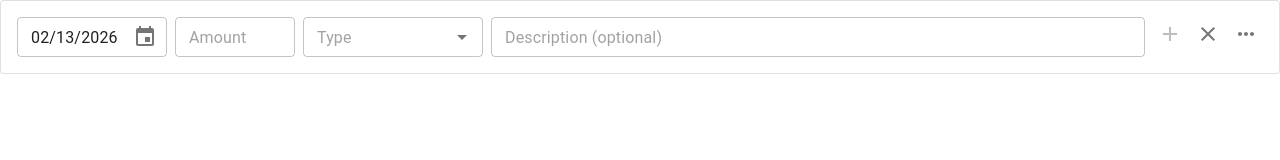
Test case: QuickEntryRow › should handle clicking clear button
# Fill in some fields
Type "50.00" into the number field with placeholder "Amount" at coordinates (235, 37), box [175, 17, 295, 57]
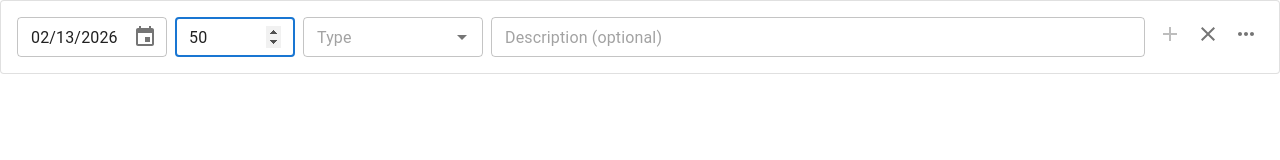
Type "Test" into the field with placeholder "Description (optional)" at coordinates (818, 37), box [491, 17, 1145, 57]
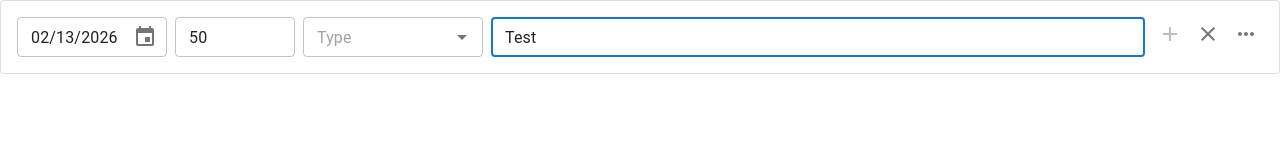
# Click clear button
Click the button named "Clear form" at coordinates (1208, 34), box [1191, 17, 1225, 51]
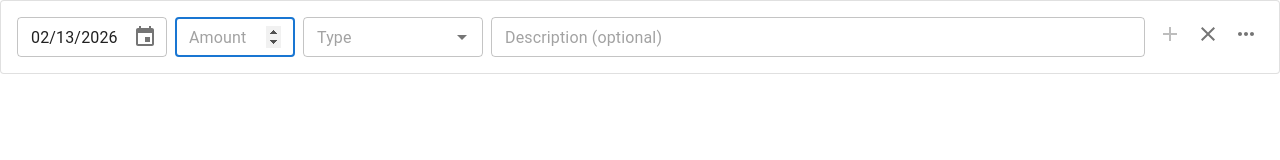
expect the number field with placeholder "Amount" is not empty: met, box [175, 17, 295, 57]
expect the field with placeholder "Description (optional)" is empty: met, box [491, 17, 1145, 57]
